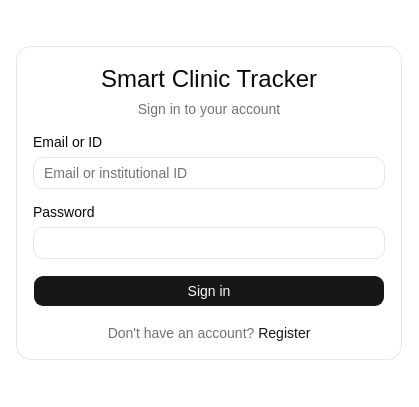
Test case: Login › does not show resend form for other login errors
In the field labelled "Email or ID": (209, 173) [33, 157, 385, 189], type "user@test.com"
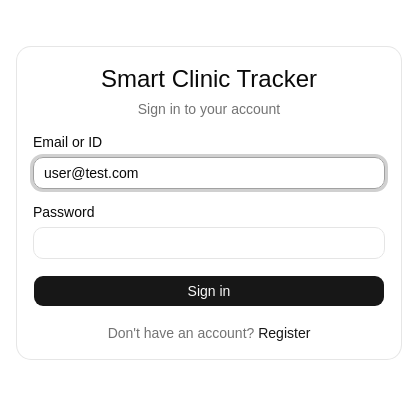
In the password field labelled "Password": (209, 243) [33, 227, 385, 259], type "wrongpass"
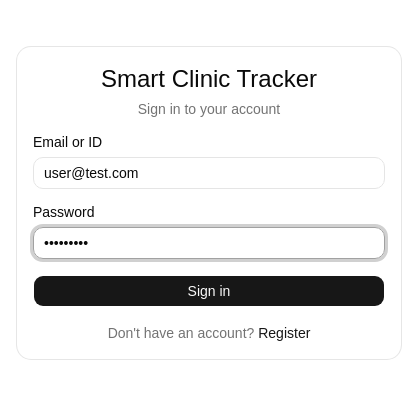
Click the button "Sign in": (209, 291) [33, 275, 385, 307]
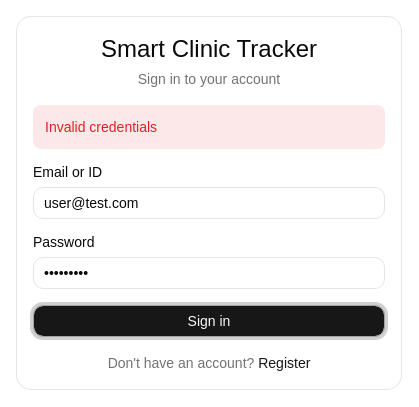
expect the text "Invalid credentials" is shown: met, box [33, 105, 385, 149]
